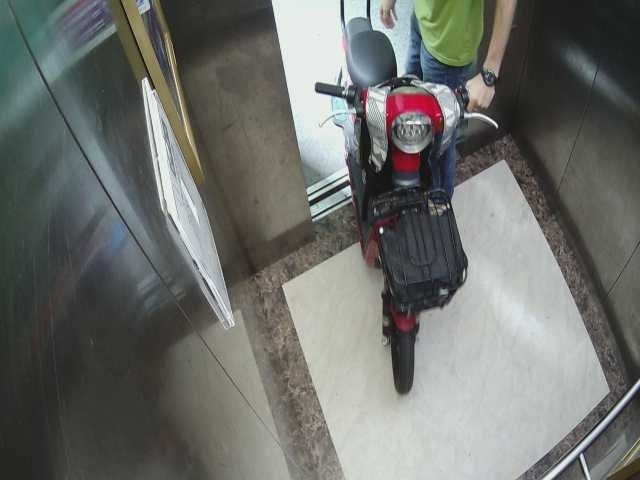emotor: (313, 5, 474, 402)
